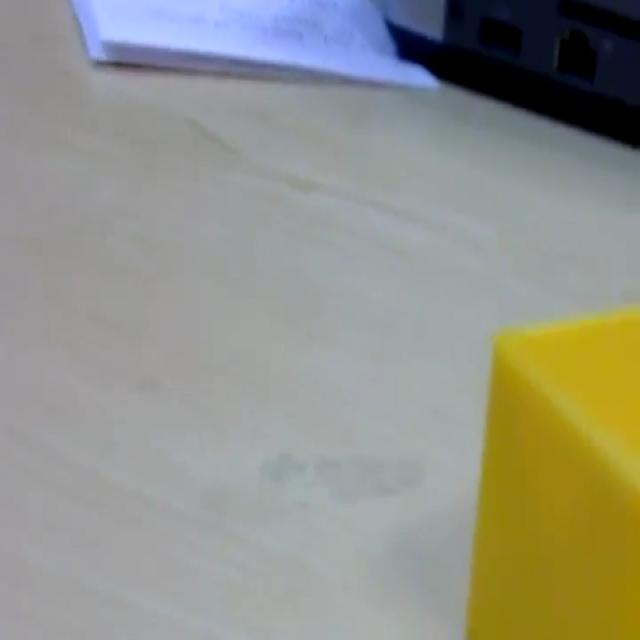yellow_block: (464, 304, 638, 636)
